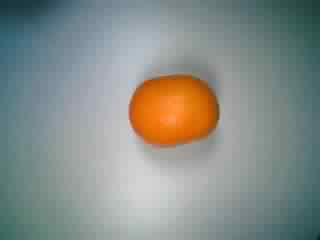orange: (127, 67, 218, 163)
